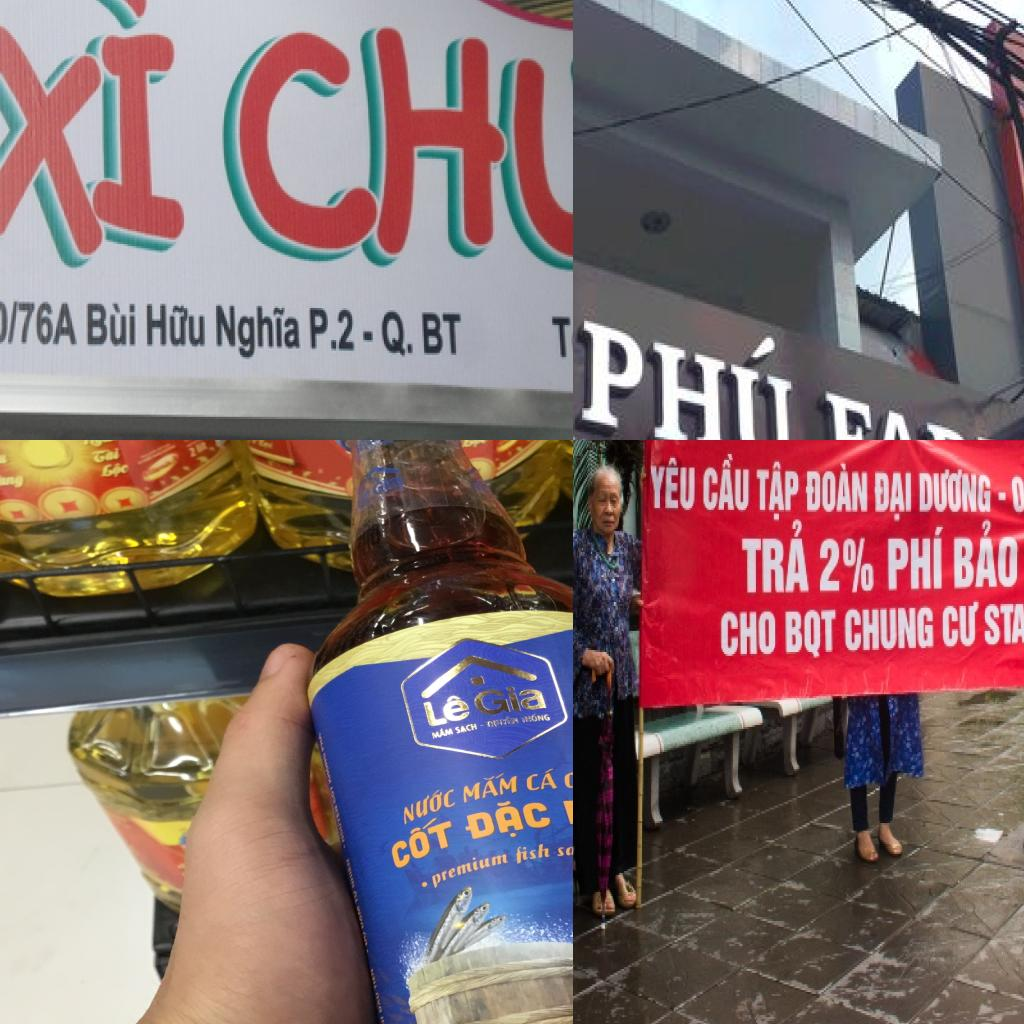text: (229, 17, 573, 295), (0, 0, 189, 267), (573, 287, 798, 440), (821, 386, 1024, 440), (741, 520, 811, 594), (458, 795, 554, 848), (216, 304, 302, 363), (953, 520, 1020, 590), (381, 306, 464, 361), (844, 606, 935, 654), (0, 297, 81, 350), (886, 527, 946, 593), (386, 814, 456, 870), (142, 297, 208, 355), (918, 468, 992, 516), (426, 848, 510, 890), (804, 462, 868, 514), (819, 535, 875, 594), (82, 297, 139, 351), (468, 682, 551, 718), (702, 454, 750, 514), (720, 610, 778, 658), (306, 304, 358, 355), (784, 610, 837, 660), (650, 456, 697, 512), (756, 462, 799, 523), (398, 784, 457, 826), (872, 472, 914, 524), (460, 770, 520, 806), (422, 690, 471, 729), (984, 600, 1024, 646), (942, 602, 980, 650), (549, 310, 573, 363), (511, 840, 553, 866), (522, 766, 558, 794), (95, 459, 134, 480), (88, 446, 120, 465), (482, 715, 520, 729), (428, 724, 456, 740), (76, 440, 120, 450), (0, 472, 24, 490), (520, 712, 552, 724), (250, 440, 277, 452), (454, 722, 478, 735), (460, 440, 490, 450), (556, 844, 573, 857), (374, 992, 384, 1013), (186, 445, 198, 459), (0, 449, 9, 467)
